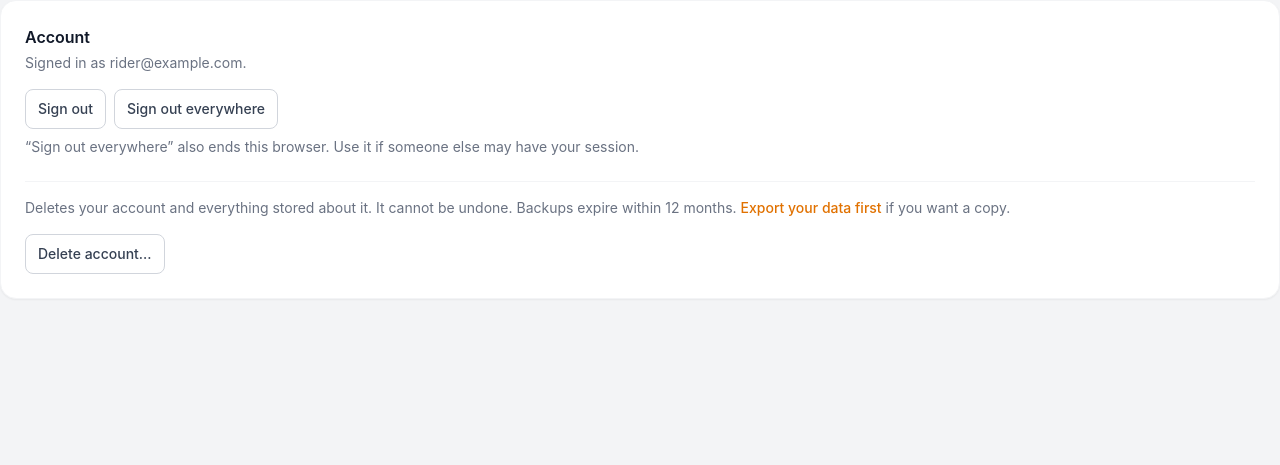
Test: AccountCard (ai-trainer-ops#310, #312) › warns that this browser goes too, before anything is sent
This screenshot has width=1280, height=465.
Click the button "Sign out everywhere" at (196, 109), box 114,89 -> 278,129
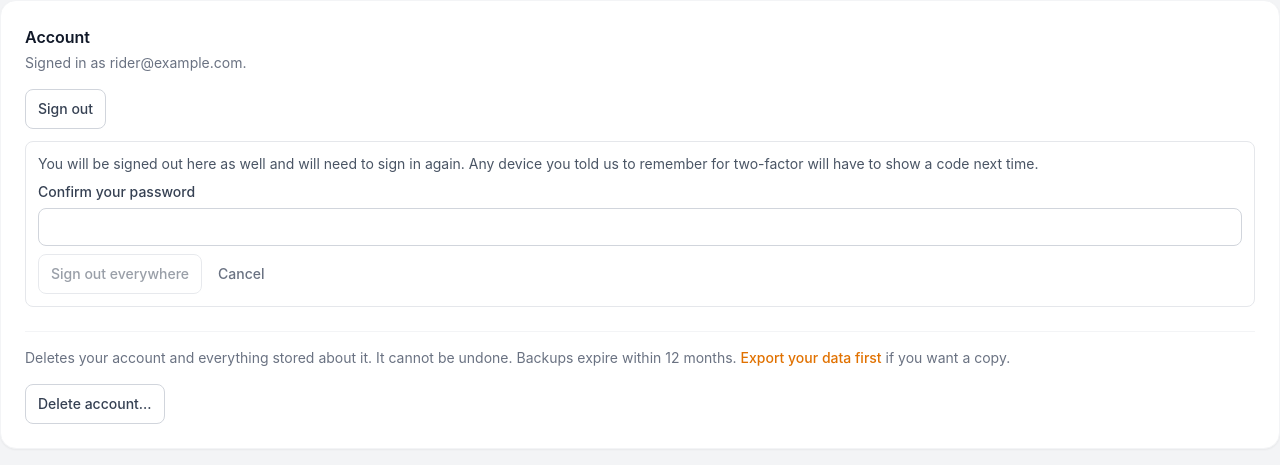
Result: the text "signed out here as well" is shown at 38,155 -> 1038,172
